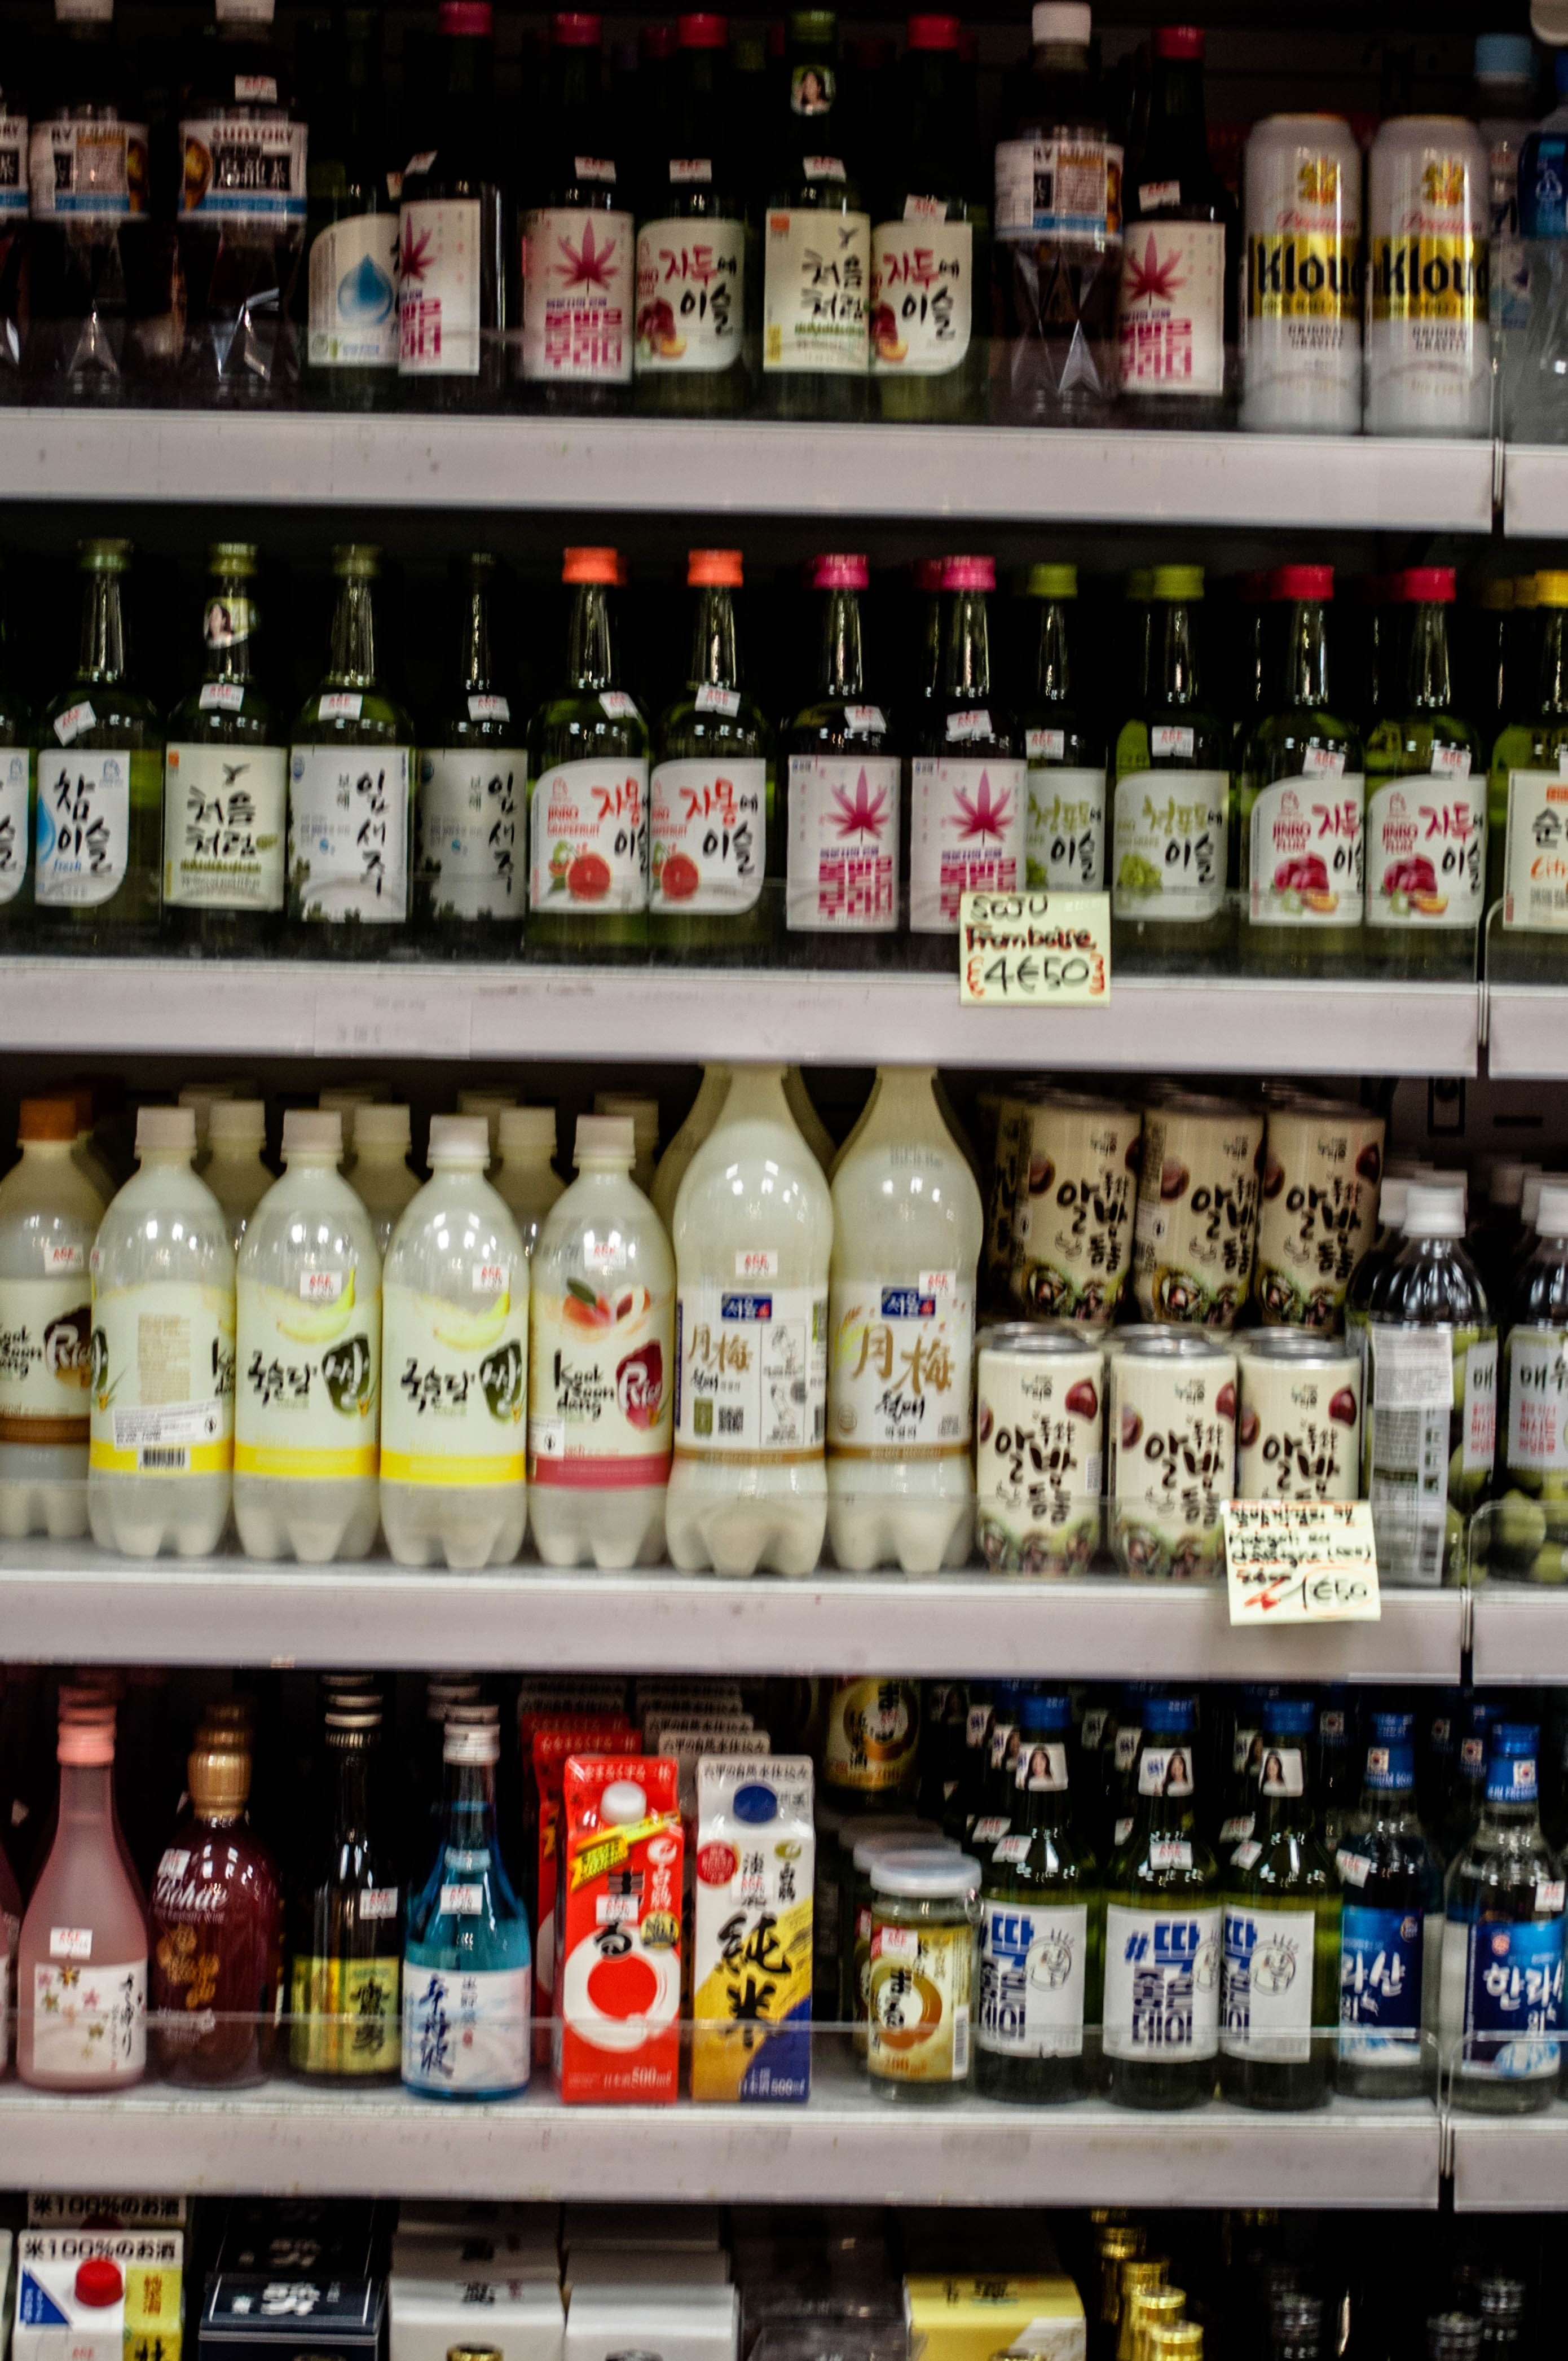Misplacement: (980, 1083, 1358, 1600), (999, 523, 1237, 996)
